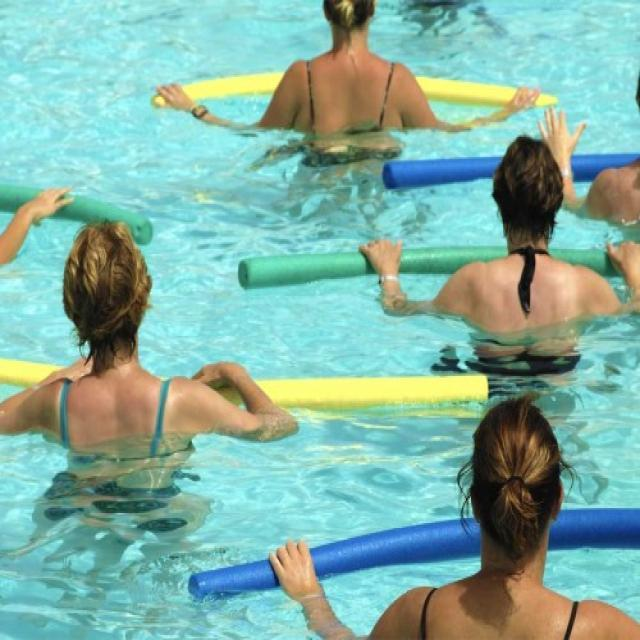Swimming: (372, 399, 639, 640), (41, 221, 201, 457), (436, 132, 608, 332), (245, 0, 443, 137)
